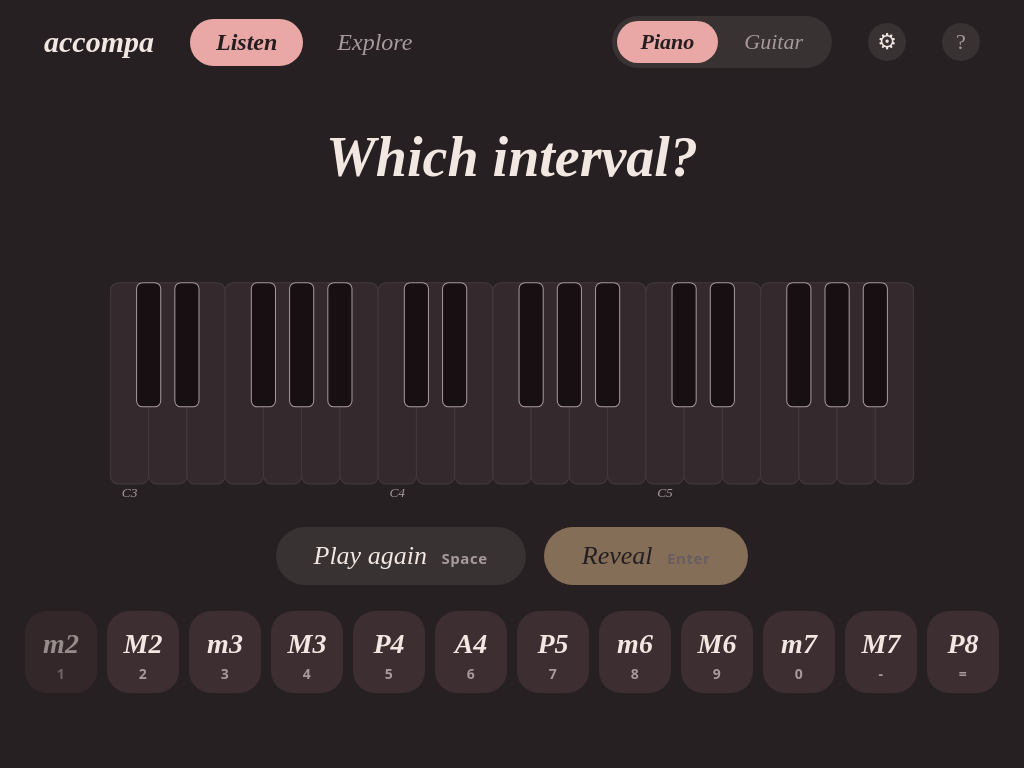
Scenario: focus after a pointer click › keeps focus when an interval button is activated from the keyboard
Press Space
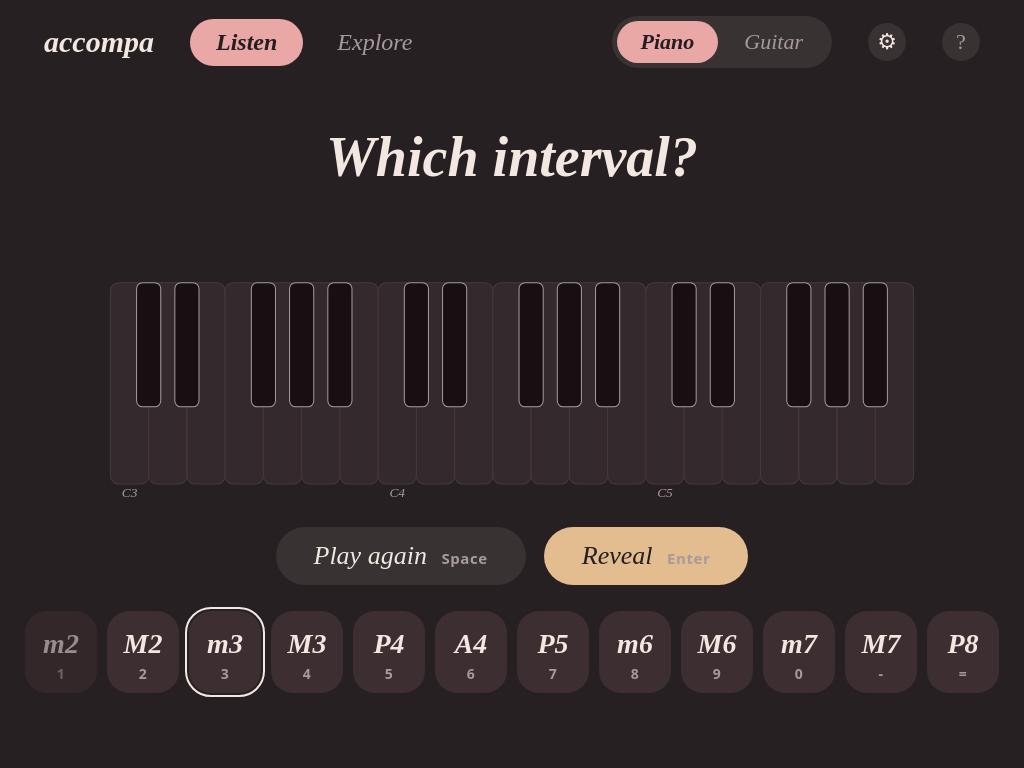
Click the button "m3 3": {"x": 225, "y": 652} [189,611,261,693]
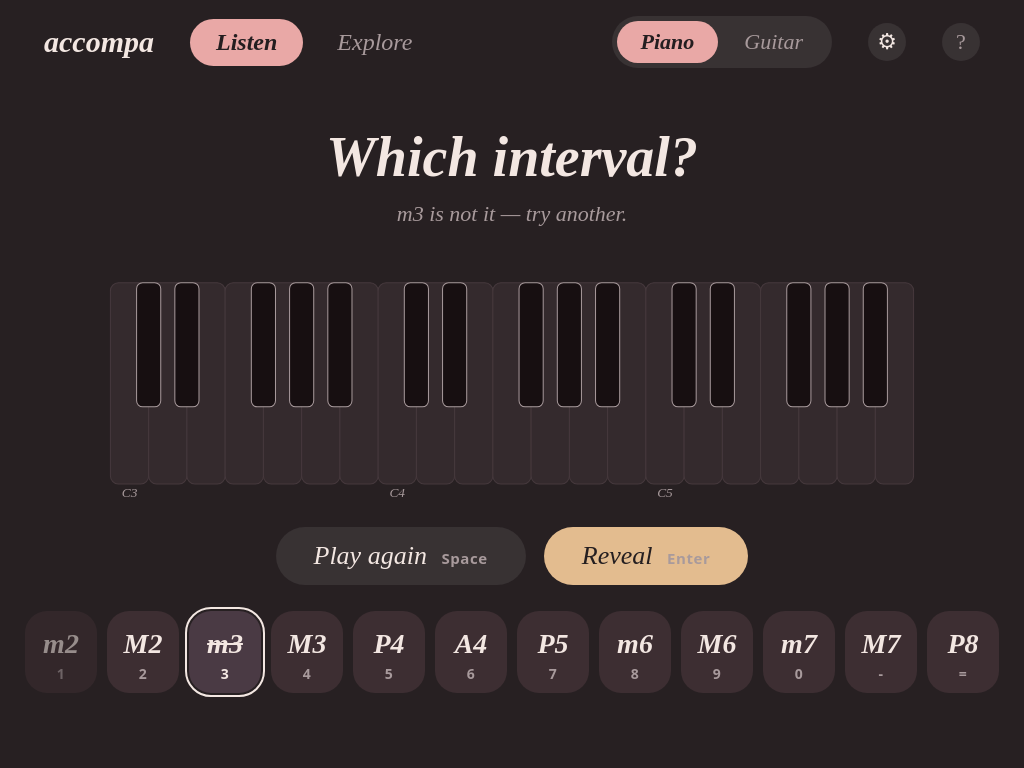
Now the text with class "guess-hint" reads "m3 is not it — try another.", box [397,201,627,226]
